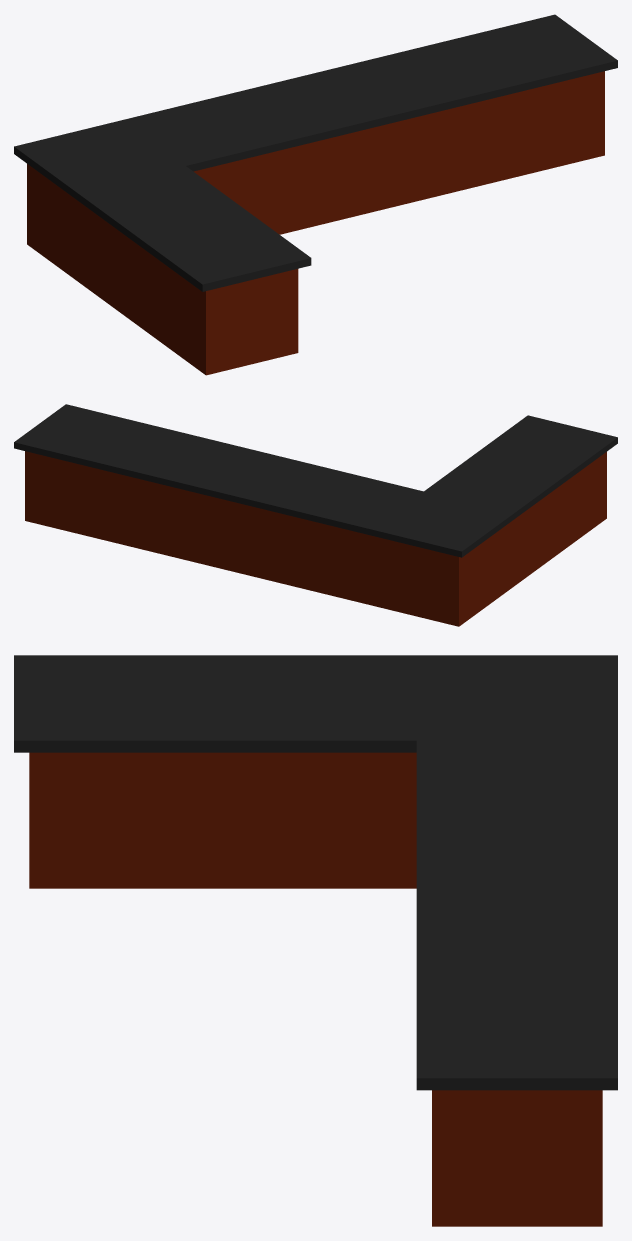
Rendered from DeskModel.dae.
3 renders of one model, top to bottom at view 1: azimuth 30°, elevation 25°; view 2: azimuth 150°, elevation 25°; view 3: azimuth 270°, elevation 25°, orthographic. The views are drawn at different scales.
Parts seen in each view (by area): view 1: SketchUp (×3); view 2: SketchUp (×3); view 3: SketchUp (×3).
Boxes of the visible parts, <box> form: SketchUp (×3): <box>14,14,617,375</box>; SketchUp (×3): <box>14,404,617,626</box>; SketchUp (×3): <box>14,655,617,1226</box>.
Bounding box in the file's own units: 1370 × 827 × 233.
